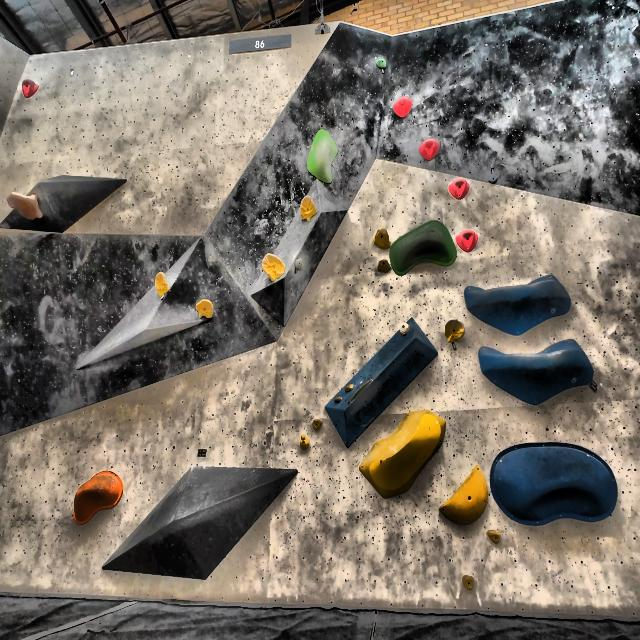Hold: (497, 434, 619, 538), (358, 406, 453, 498), (473, 336, 597, 404), (463, 270, 580, 333), (434, 457, 492, 526), (71, 470, 127, 530), (304, 120, 351, 189), (4, 188, 49, 234), (256, 247, 285, 285), (416, 136, 446, 166), (454, 226, 483, 255), (442, 314, 465, 346), (385, 95, 417, 118), (446, 174, 472, 202), (23, 72, 44, 105), (148, 274, 172, 298), (459, 570, 484, 592), (300, 193, 319, 220), (373, 226, 392, 250), (194, 298, 214, 320), (298, 432, 314, 453), (292, 258, 310, 276), (341, 373, 358, 392), (370, 56, 390, 70), (374, 260, 392, 275), (488, 528, 502, 546), (312, 416, 327, 432), (329, 396, 347, 406)
